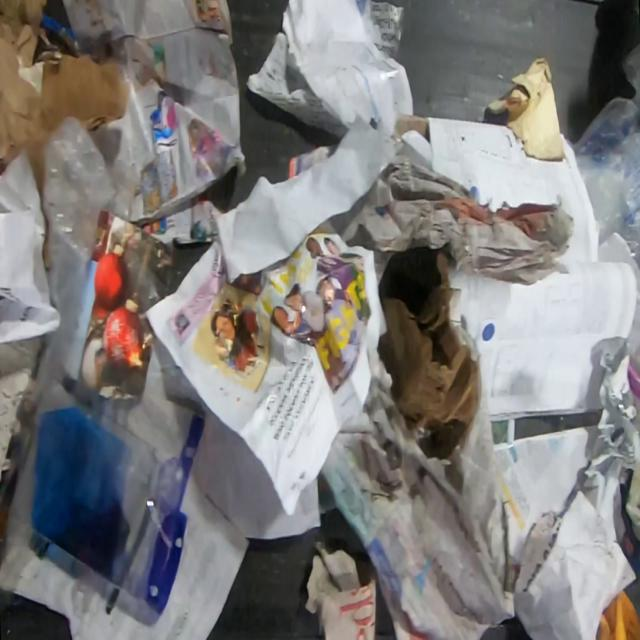cardboard: (0, 0, 131, 204), (375, 241, 483, 463), (0, 331, 48, 484), (620, 519, 640, 577)
soft_plastic: (8, 357, 208, 617), (35, 116, 140, 400), (567, 42, 640, 272)
